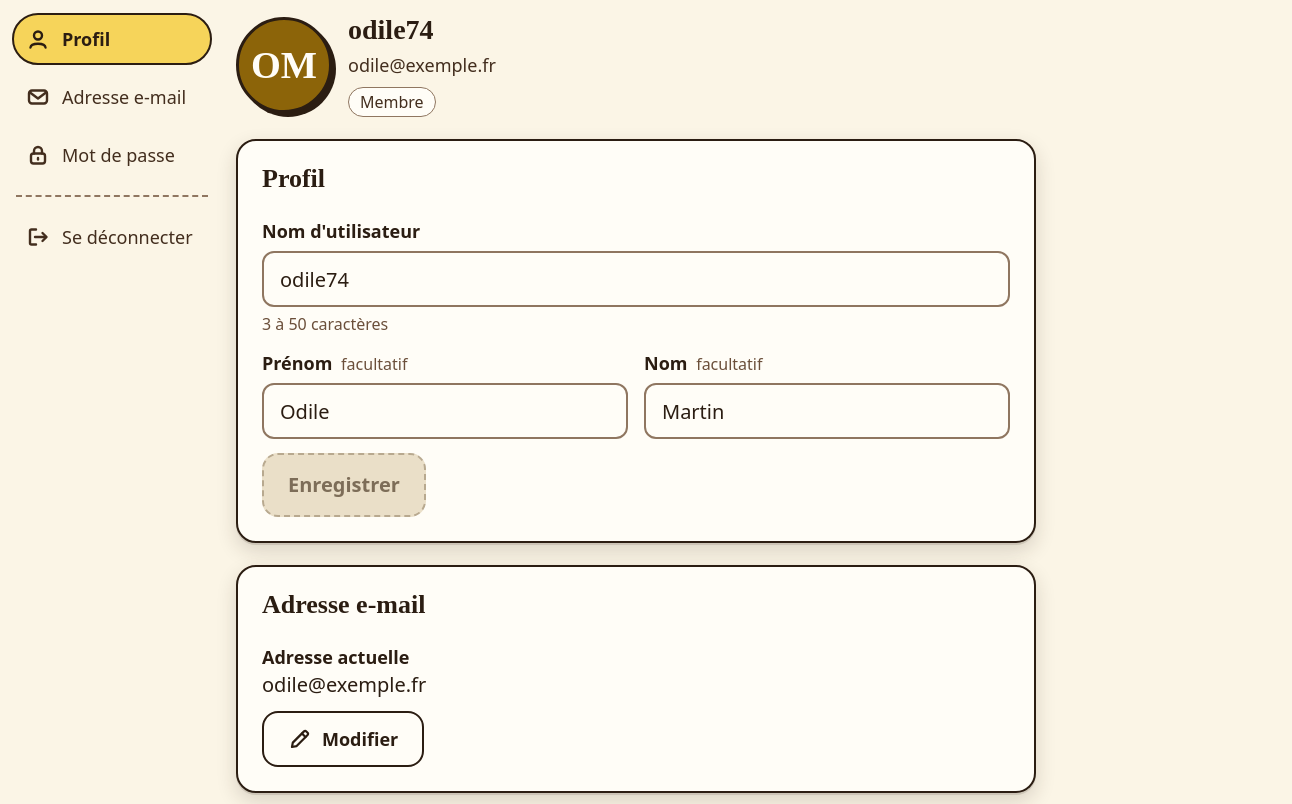
Scenario: AccountScreen › the e-mail card › sends the address and the current password, says it was changed, and closes with the new address
The width and height of the screenshot is (1292, 804).
Click the button "Modifier" at [343, 739], box [262, 711, 424, 767]
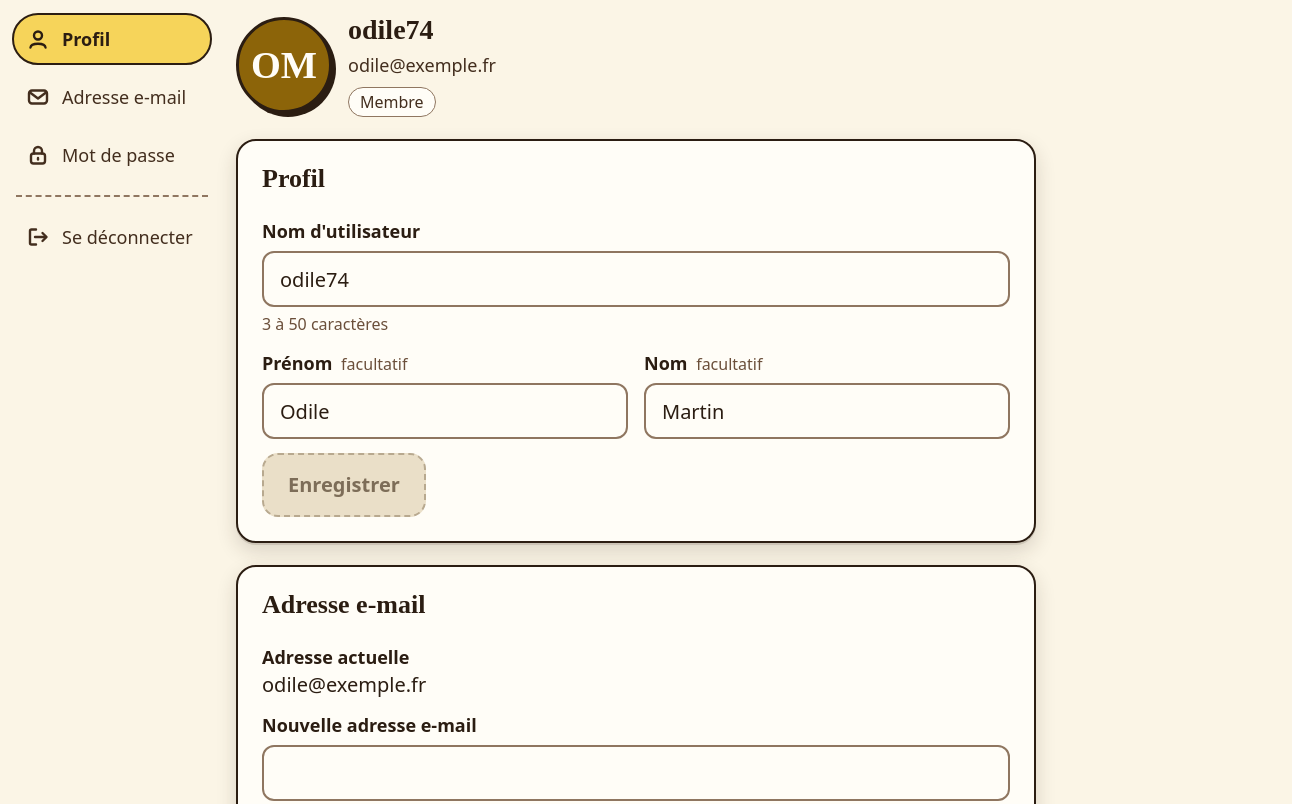
Type "odile.martin@exemple.fr" into the field labelled "Nouvelle adresse e-mail" at [636, 773], box [262, 745, 1010, 801]
(page scrolled)
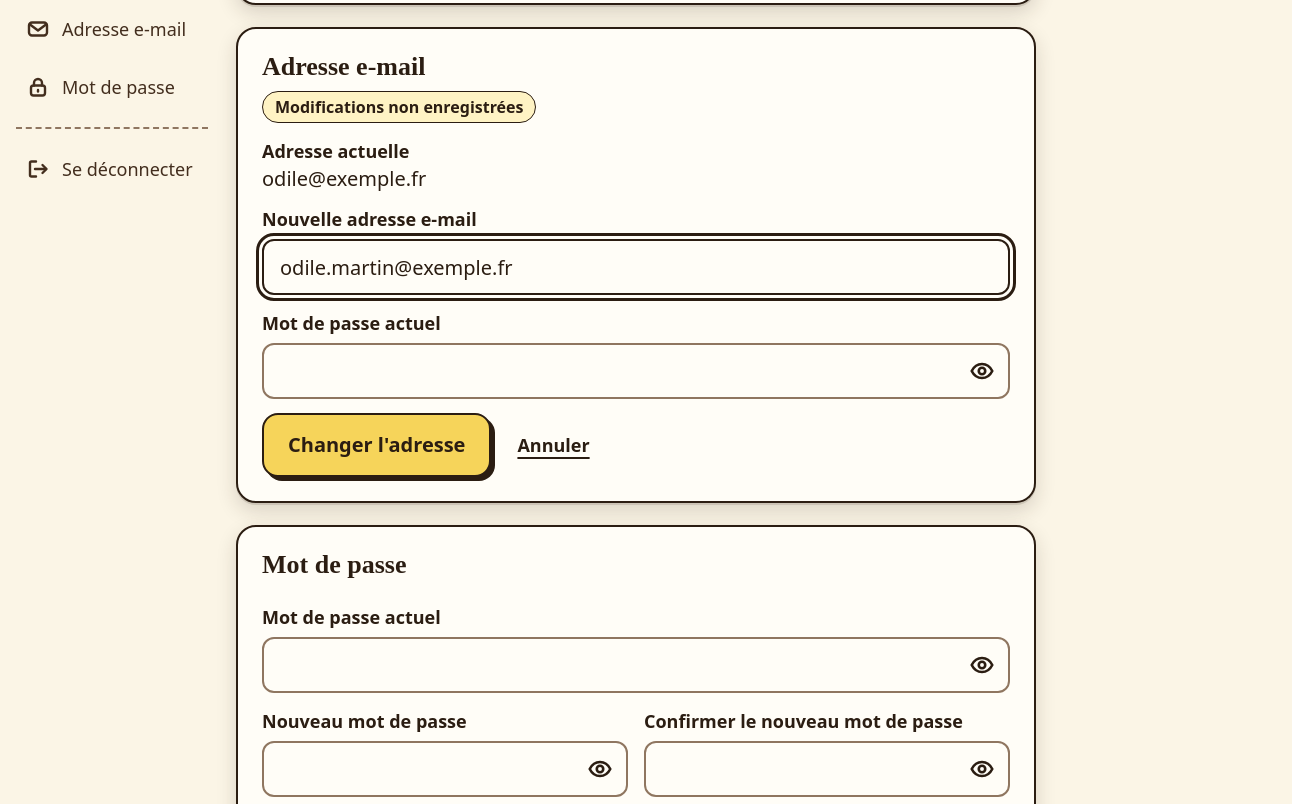
Type "motdepasse" into the password field labelled "Mot de passe actuel" below "Nouvelle adresse e-mail" at [636, 371], box [262, 343, 1010, 399]
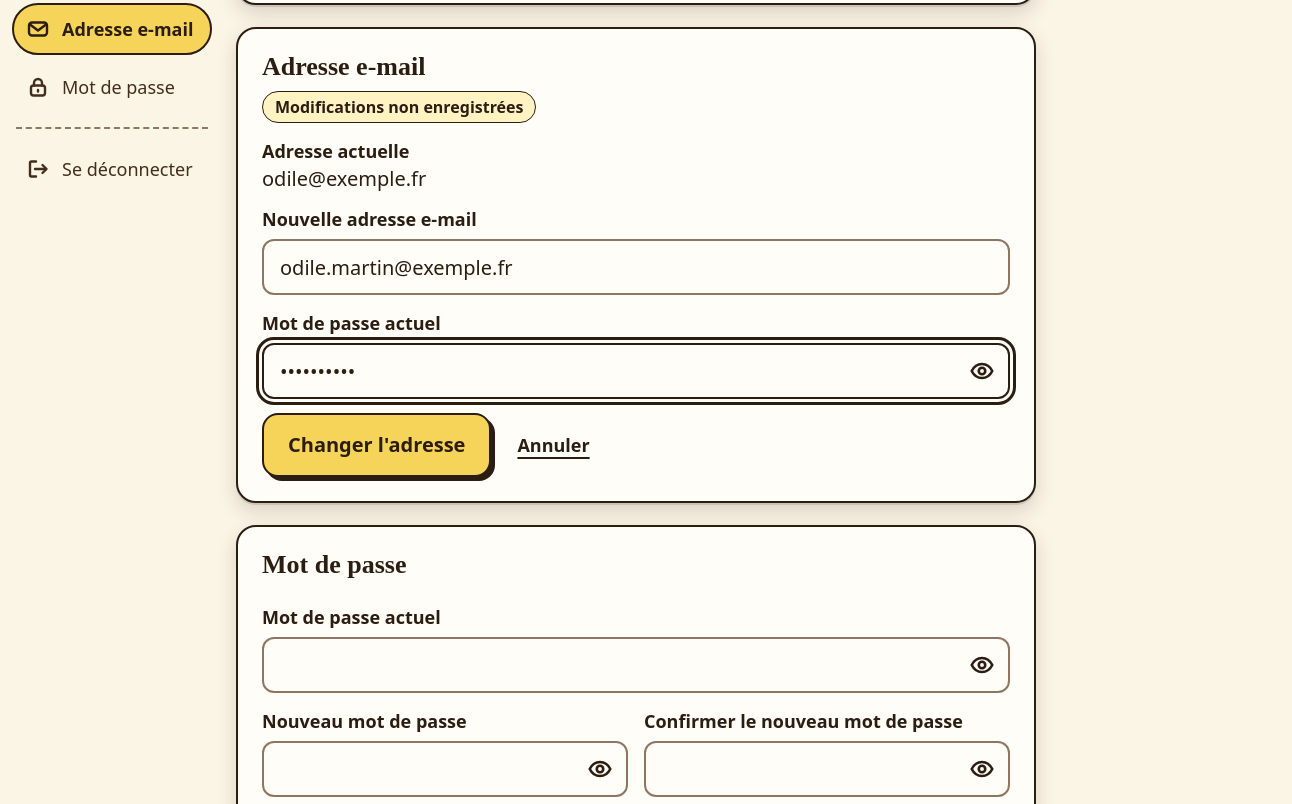
Click the button "Changer l'adresse" at [377, 445], box [262, 413, 491, 477]
(page scrolled)
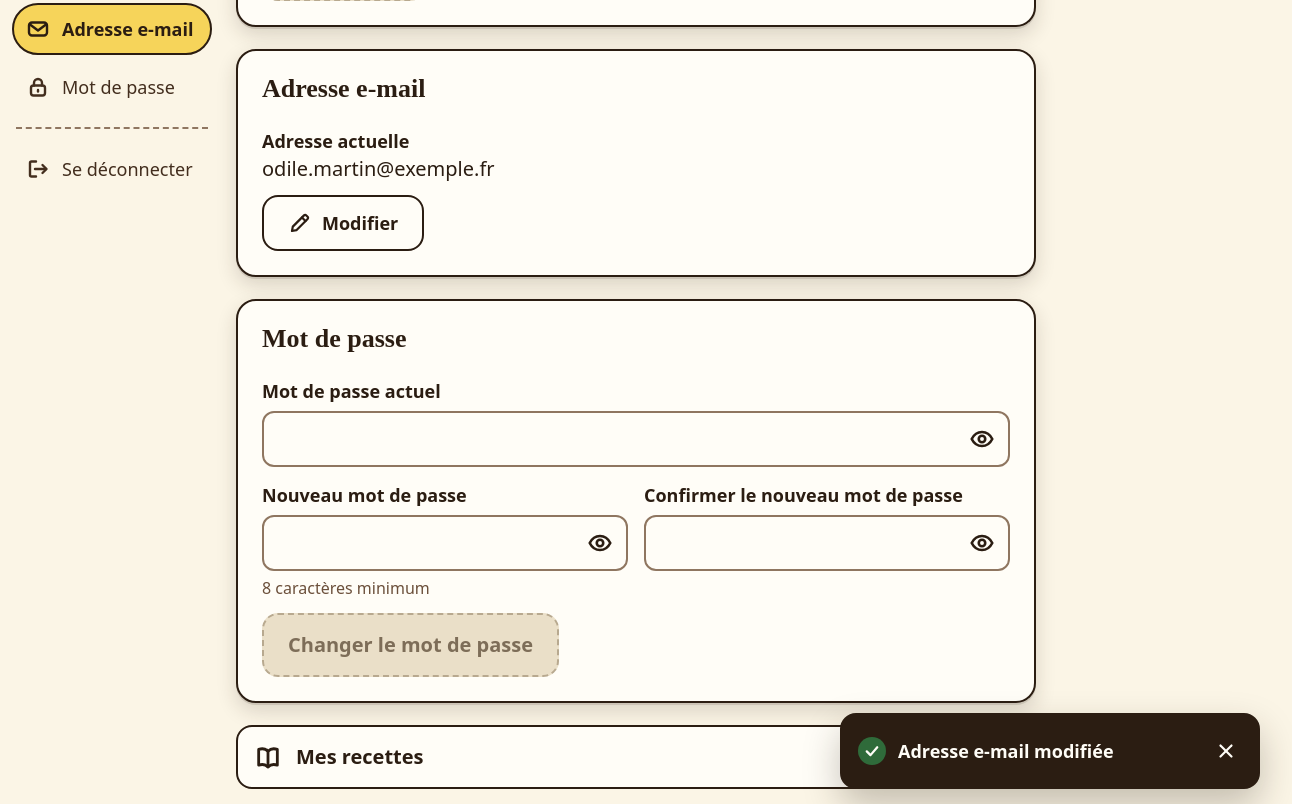
Expected: the text "Adresse e-mail modifiée" is shown, [898, 739, 1114, 763]
Expected: the label labelled "Nouvelle adresse e-mail" is gone
Expected: the text "odile.martin@exemple.fr" is shown, [262, 155, 494, 182]
